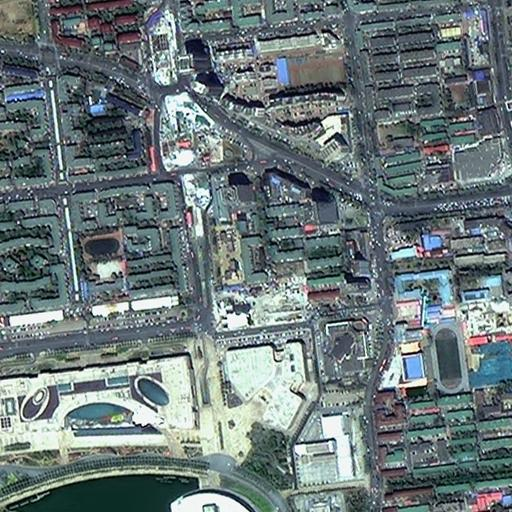school: (380, 320, 472, 395), (254, 29, 351, 86), (78, 229, 127, 295)
